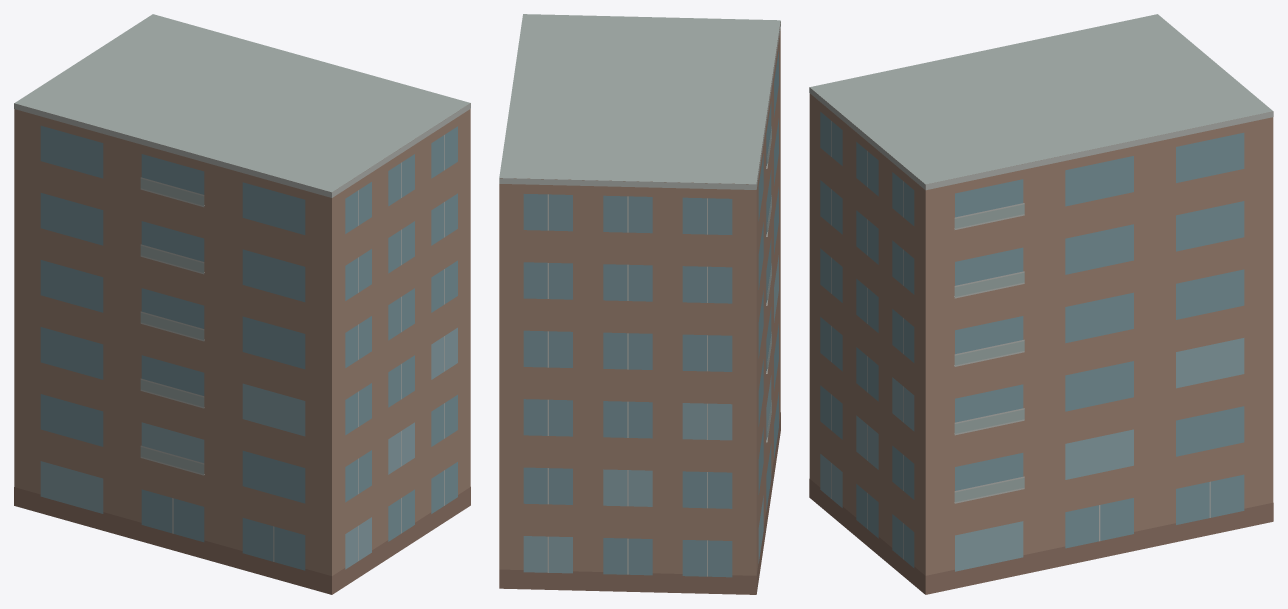
The model's file is survey-upis-32700644.glb.
3 views of the same model, side by side, from view 1: azimuth 30°, elevation 25°; view 2: azimuth 150°, elevation 25°; view 3: azimuth 270°, elevation 25° (orthographic). The views are drawn at different scales.
Visible parts, largest first — view 1: survey-upis-32700644.tmp; view 2: survey-upis-32700644.tmp; view 3: survey-upis-32700644.tmp.
Boxes of the visible parts, <box> form: survey-upis-32700644.tmp: <box>14,14,470,594</box>; survey-upis-32700644.tmp: <box>499,14,780,594</box>; survey-upis-32700644.tmp: <box>809,14,1273,594</box>.
Size of the model in its own units: 15.38 by 17.25 by 17.68.
